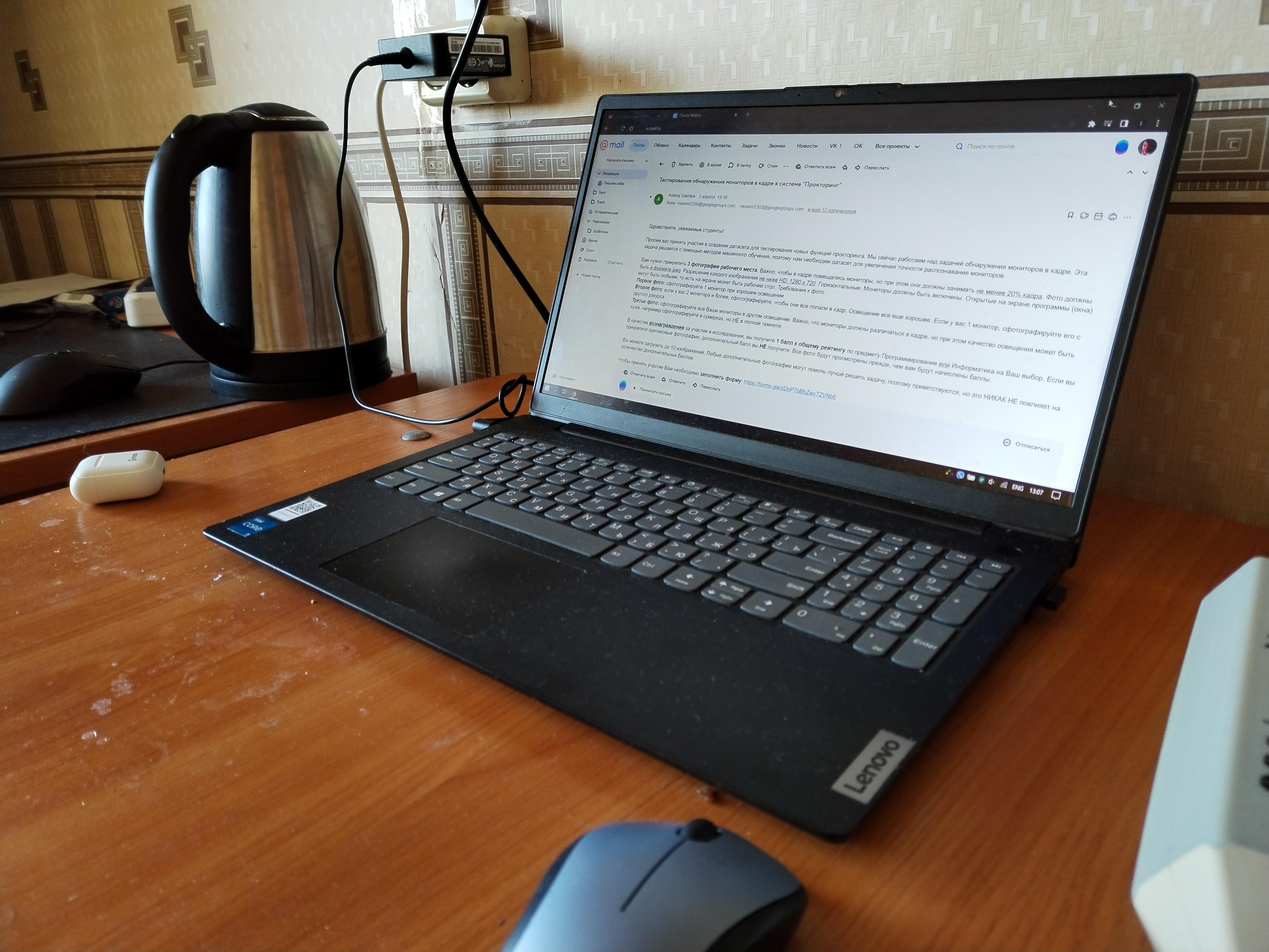monitor: (529, 66, 1198, 567)
